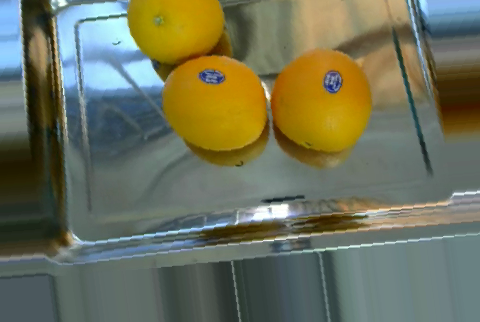Orange: (160, 54, 268, 152), (270, 48, 372, 151), (126, 0, 225, 64)
